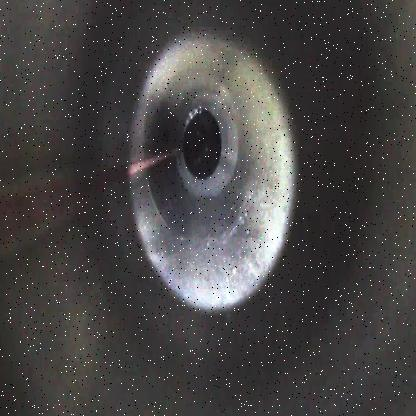NoCrack: (127, 28, 296, 313)
